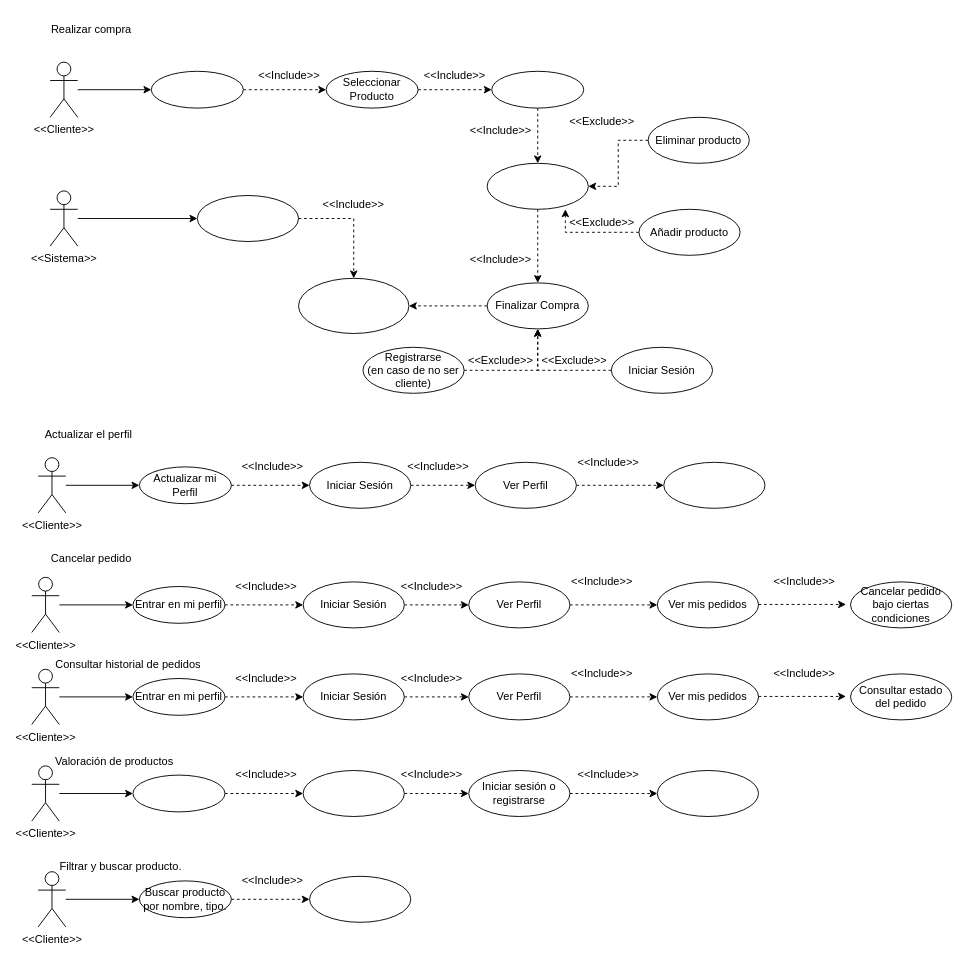
The diagram is 968 pixels wide and 961 high, and some of its shapes have lost their labels. The centre of each missing label's shape, as x and y in pixels:
"Dejar valoración al producto" goes at [707,793].
"Elegir cantidad del producto" goes at [537,89].
"Explorar Productos" goes at [196,89].
"Modificar Perfil" goes at [714,484].
"Notificar Correo" goes at [247,218].
"Pagar (solo como Cliente)" goes at [353,305].
"Pinchar" goes at [353,793].
"Producto" goes at [360,898].
"Visualizar Detalles de compra" goes at [537,185].
"Visualizar producto" goes at [178,793].
